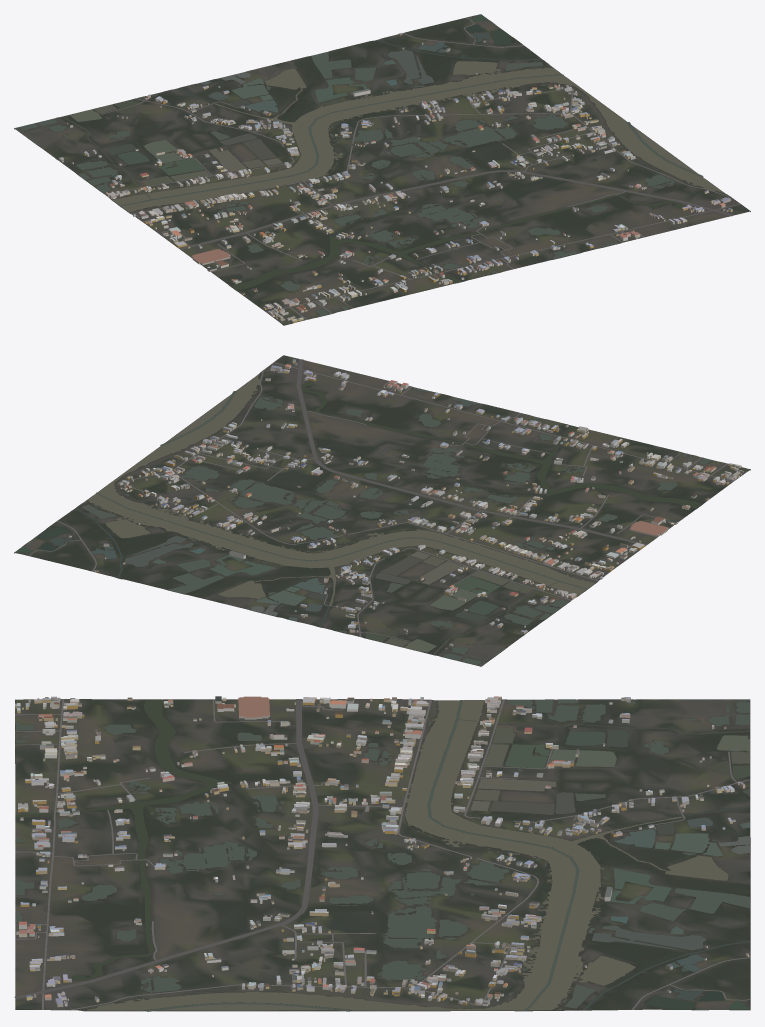
3 views of the same model, one above another, from view 1: azimuth 30°, elevation 25°; view 2: azimuth 150°, elevation 25°; view 3: azimuth 270°, elevation 25° (orthographic). The views are drawn at different scales.
Parts seen in each view (by area): view 1: ground, water, buildings, roads; view 2: ground, water, buildings, roads; view 3: ground, water, buildings, roads.
Part boxes in pixels (x1=…): ground: x1=14, y1=14, x2=750, y2=325; water: x1=15, y1=14, x2=723, y2=324; buildings: x1=59, y1=33, x2=732, y2=323; roads: x1=101, y1=17, x2=740, y2=319; ground: x1=14, y1=355, x2=750, y2=666; water: x1=15, y1=375, x2=749, y2=666; buildings: x1=68, y1=359, x2=743, y2=649; roads: x1=29, y1=359, x2=732, y2=641; ground: x1=15, y1=699, x2=750, y2=1011; water: x1=15, y1=699, x2=749, y2=1011; buildings: x1=15, y1=696, x2=749, y2=1007; roads: x1=14, y1=699, x2=750, y2=1010.
Bounding box in the file's own units: 1408 × 14.95 × 1404.
